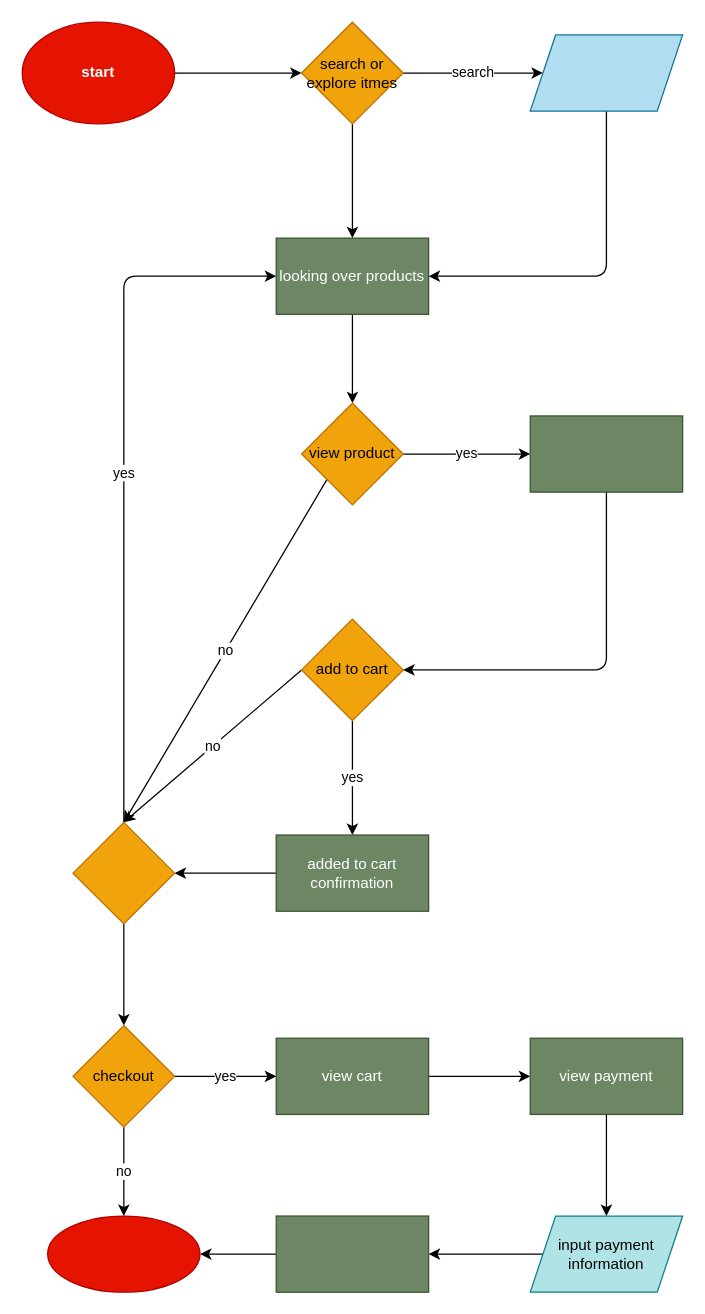
This 705x1314 diagram has some shape labels left out. The centre of each missing label's shape, as x and y in pixels:
continue: the point at 123,872
input for search: the point at 606,72
leave website: the point at 123,1253
open product webpage: the point at 606,453
see confirmation, recieve email: the point at 352,1253
